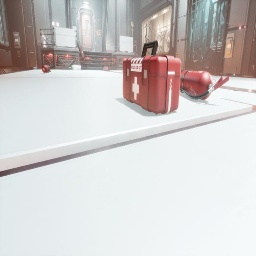0: (69, 65, 81, 70)
EmergencyPhone ,: (17, 49, 21, 57), (176, 51, 178, 58), (98, 29, 100, 35), (19, 52, 20, 53), (177, 54, 178, 55)
FireAlarm ,: (97, 31, 98, 35)
FireExtinguisher ]: (180, 70, 229, 100), (40, 65, 51, 73), (43, 68, 44, 68)
FirstAidBox ,: (123, 40, 181, 115), (103, 66, 110, 72), (124, 51, 128, 53)
NitrogenTank ,: (77, 40, 85, 61)
SafetySwitchPanel ,: (224, 33, 236, 58), (13, 32, 21, 48), (72, 26, 77, 40)
